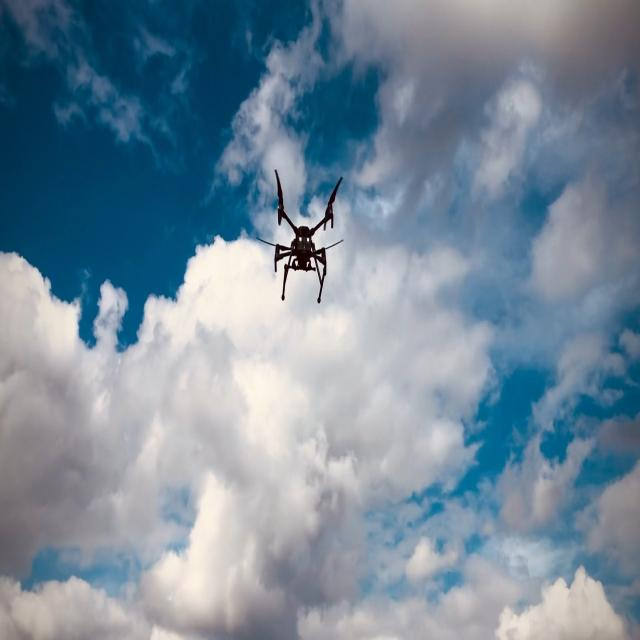drone: (255, 168, 344, 304)
